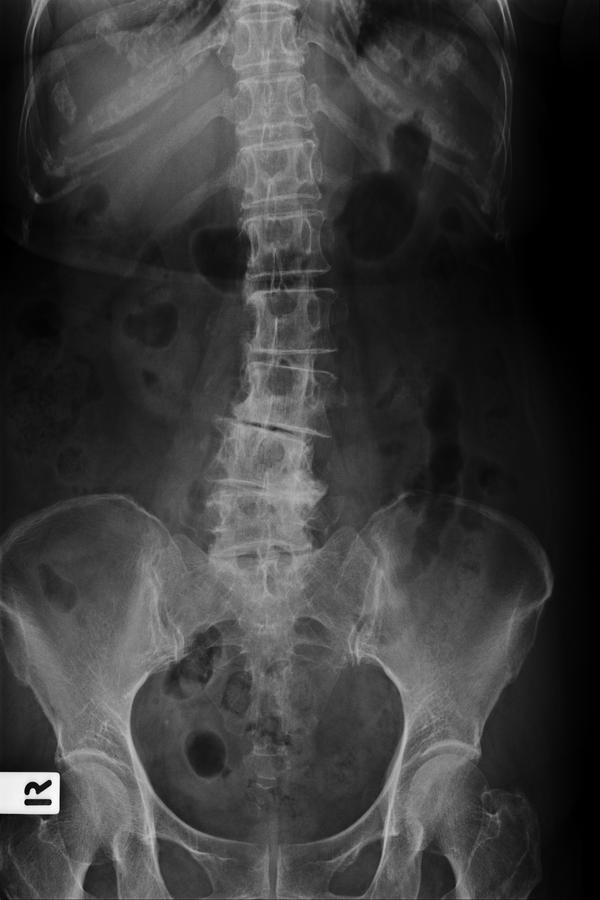lumbar scoliosis: (199, 133, 342, 590)
